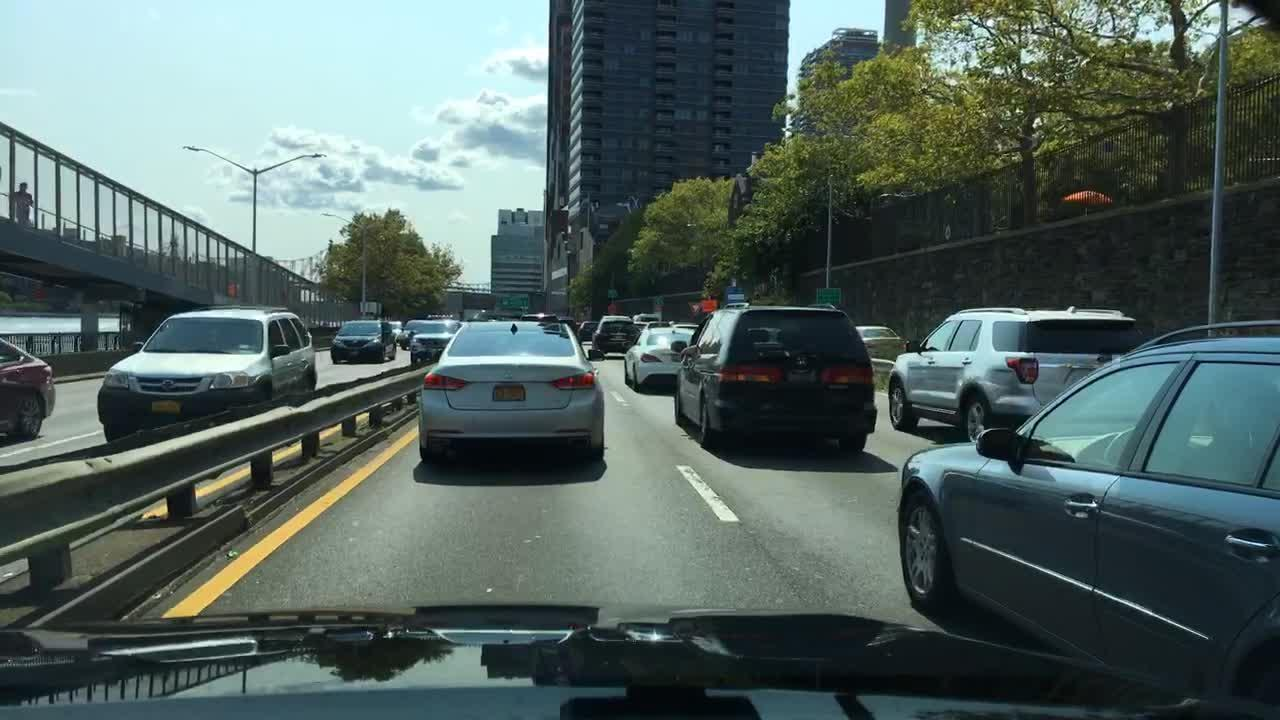Honda: (792, 351, 809, 371)
Mitsubishi: (501, 365, 517, 381)
